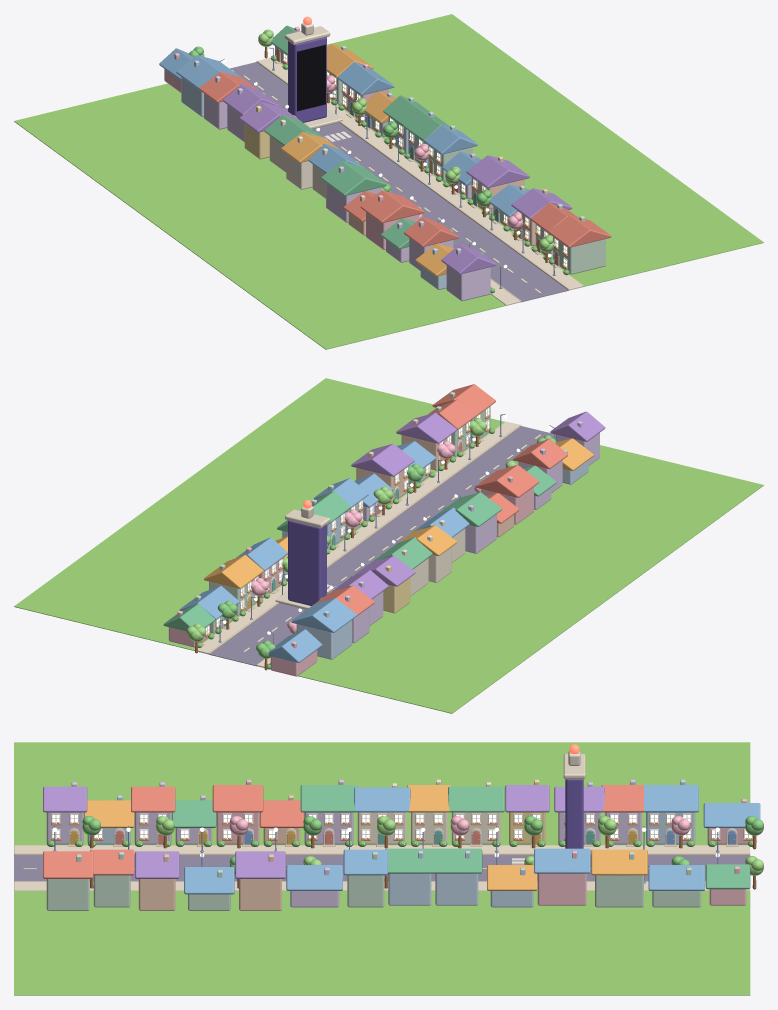
File: town.glb
The picture shows the model from 3 angles, top to bottom: view 1: azimuth 30°, elevation 25°; view 2: azimuth 150°, elevation 25°; view 3: azimuth 270°, elevation 25°; orthographic projection. The views are drawn at different scales.
Visible parts, largest first — view 1: Ground, Town, Tower, BoardScreen; view 2: Ground, Town, Tower; view 3: Ground, Town, Tower.
Part boxes in pixels (<box>): Ground: <box>14,14,763,349</box>; Town: <box>159,25,611,301</box>; Tower: <box>285,16,342,128</box>; BoardScreen: <box>297,44,325,111</box>; Ground: <box>14,378,763,713</box>; Town: <box>163,384,605,676</box>; Tower: <box>275,500,330,609</box>; Ground: <box>14,742,750,995</box>; Town: <box>43,779,763,910</box>; Tower: <box>563,744,585,848</box>.
Size of the model in its own units: 146 by 33.72 by 183.
